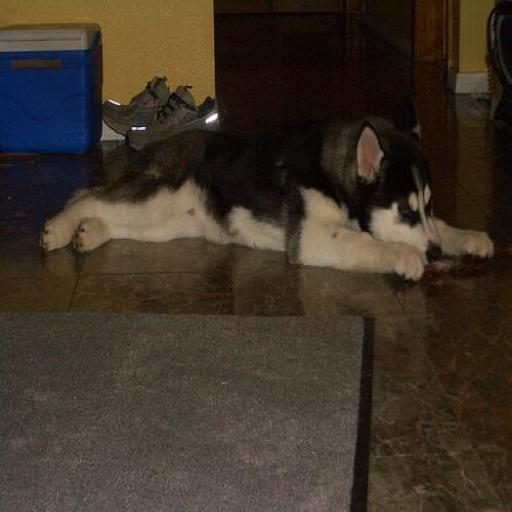dog_face: (355, 127, 442, 266)
